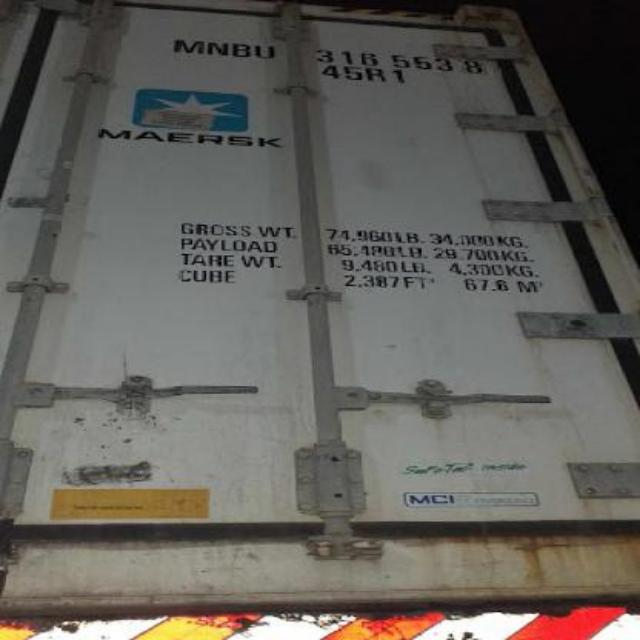1: (336, 47, 360, 67)
3: (314, 44, 338, 64), (436, 50, 454, 76)
5: (406, 50, 434, 76), (388, 50, 412, 72)
6: (362, 46, 383, 66)
8: (462, 56, 488, 78)
B: (235, 36, 251, 66)
M: (172, 35, 205, 61)
N: (204, 33, 230, 65)
U: (252, 38, 282, 66)
